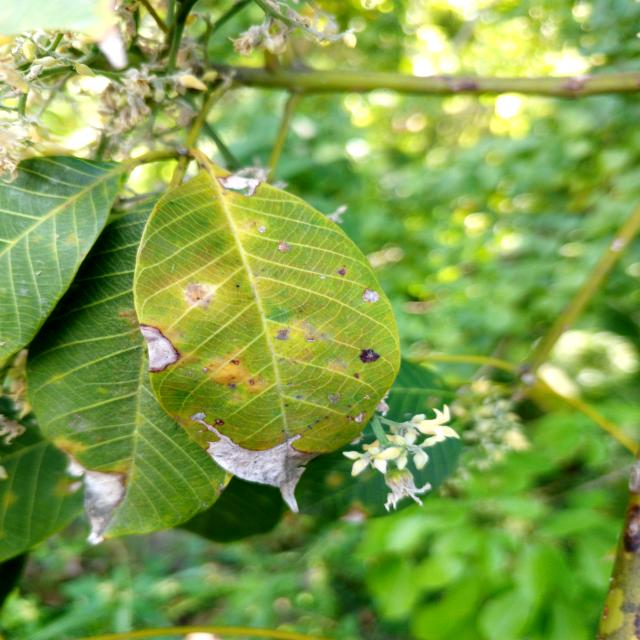Leaf-Blight: (190, 412, 323, 513), (67, 453, 126, 545), (140, 323, 179, 372), (217, 174, 260, 197)
